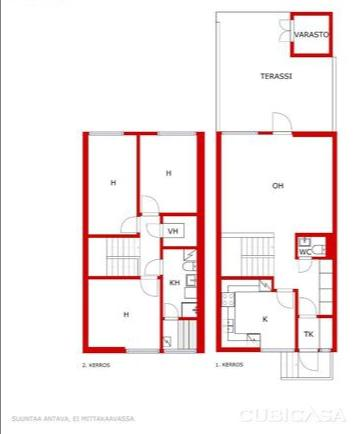door: (271, 112, 295, 136), (294, 296, 318, 320), (137, 194, 160, 219), (299, 346, 321, 372), (138, 275, 158, 298), (275, 288, 294, 310), (120, 216, 140, 235), (145, 258, 164, 278), (162, 302, 180, 322), (276, 30, 296, 46), (146, 223, 164, 239), (277, 17, 296, 31), (298, 255, 312, 274)
window: (85, 128, 128, 138), (160, 346, 201, 356), (152, 130, 200, 138), (220, 129, 262, 138), (120, 346, 162, 355), (294, 346, 334, 354), (258, 348, 301, 355)
